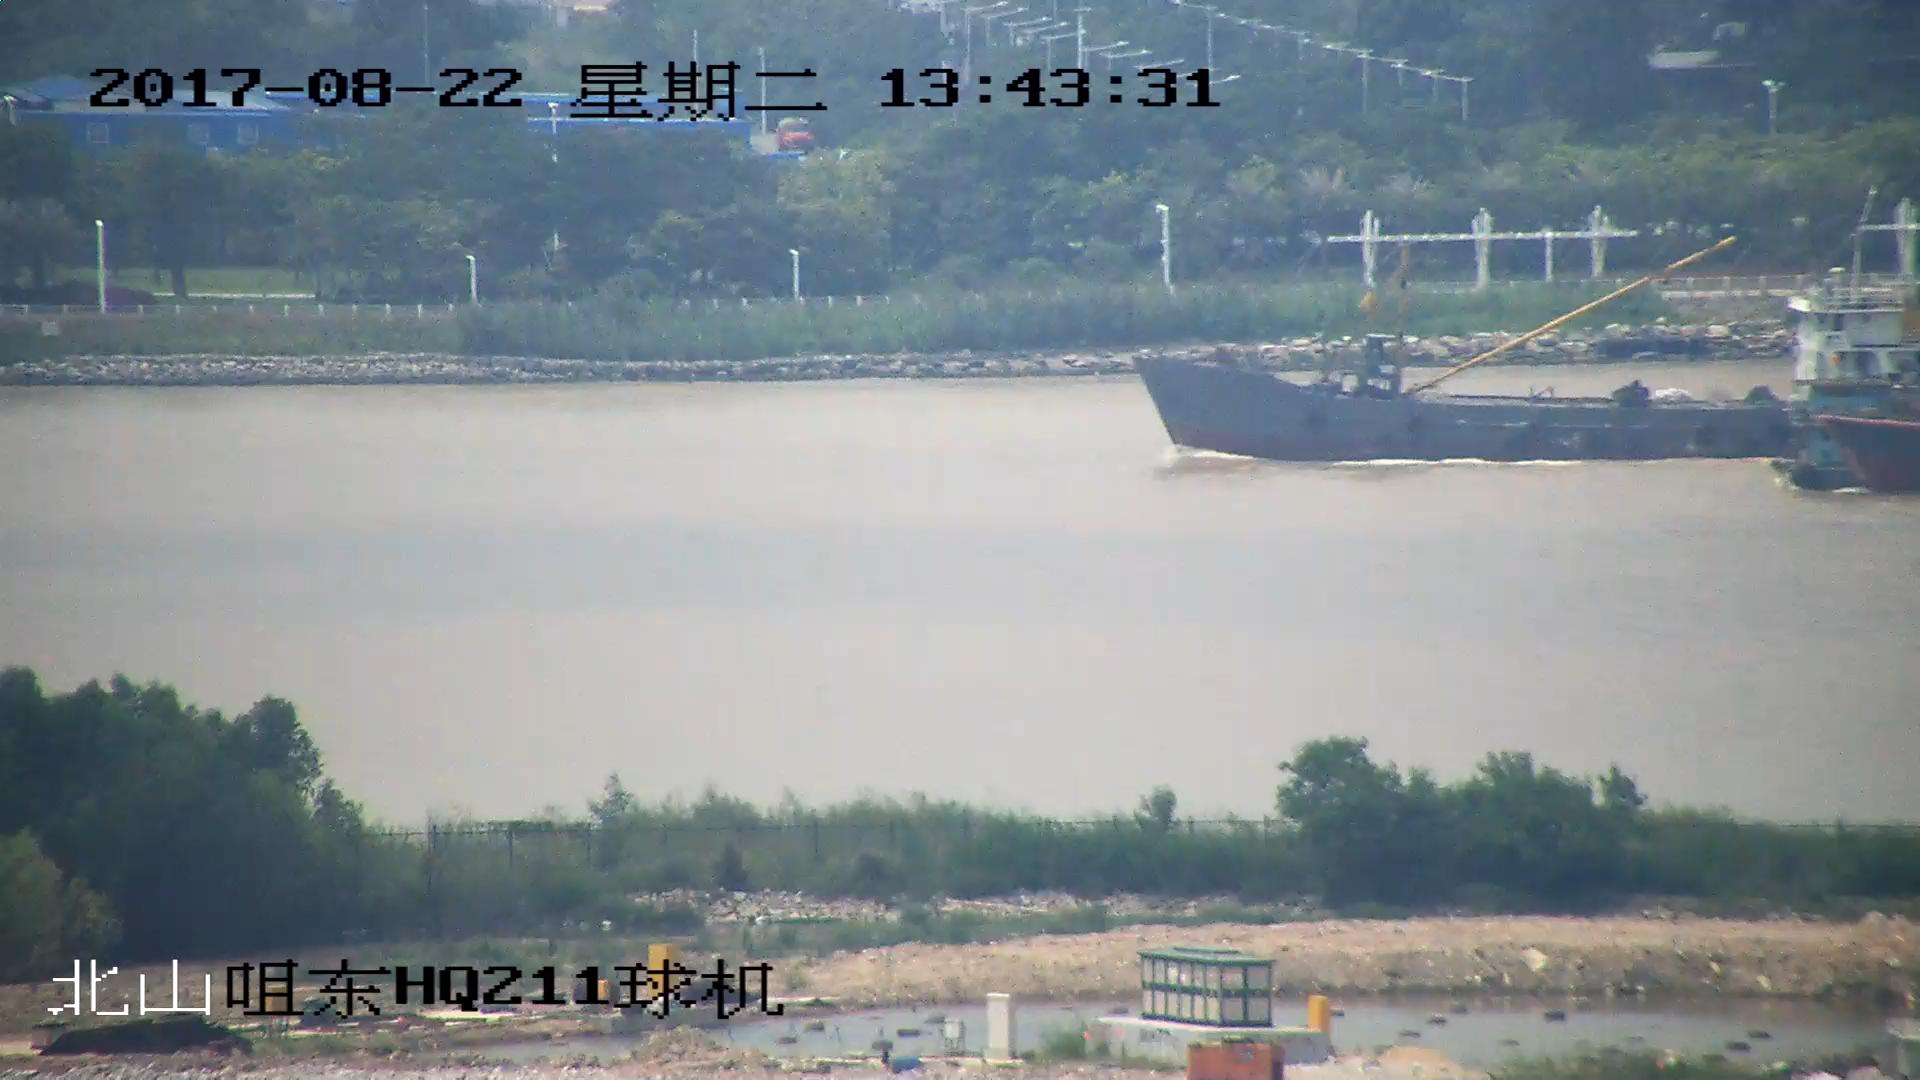fishing boat: (1142, 205, 1920, 462), (1793, 391, 1920, 491)
